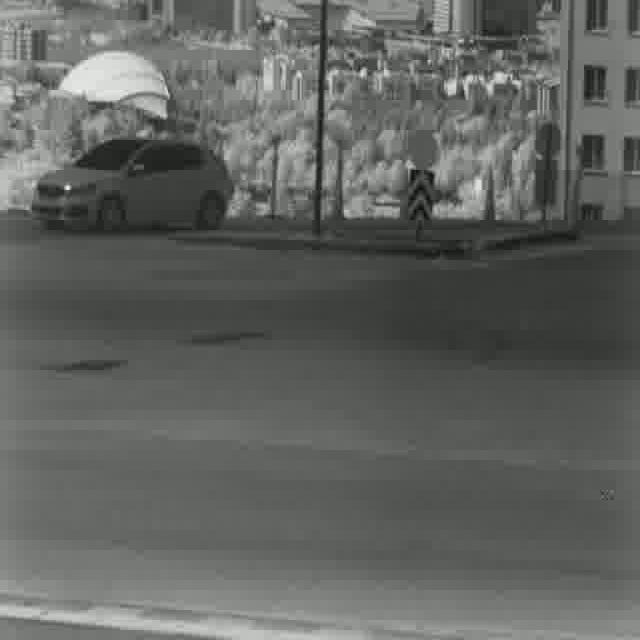Car: (32, 142, 234, 228)
